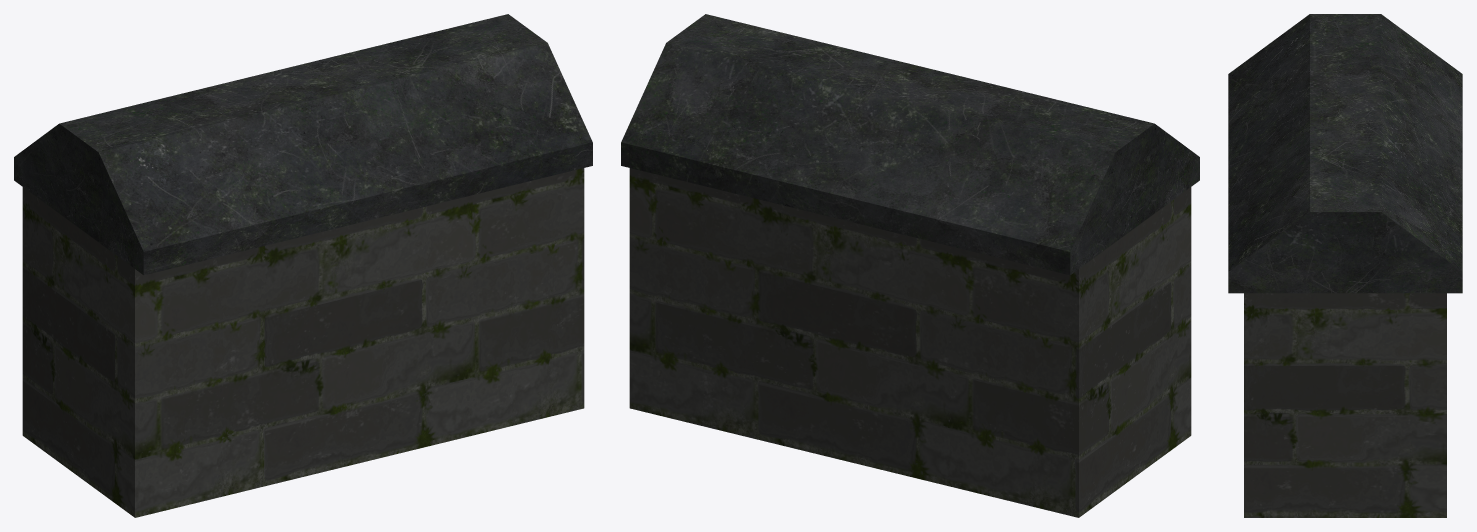
File: WallSingle.fbx
The picture shows the model from 3 angles, left to right: view 1: azimuth 30°, elevation 25°; view 2: azimuth 150°, elevation 25°; view 3: azimuth 270°, elevation 25°; orthographic projection. The views are drawn at different scales.
Visible parts, largest first — view 1: Cube.035; view 2: Cube.035; view 3: Cube.035.
Part boxes in pixels (<box>): Cube.035: <box>14,14,592,517</box>; Cube.035: <box>621,14,1199,517</box>; Cube.035: <box>1228,14,1462,517</box>.
Size of the model in its own units: 600 by 433 by 300.
